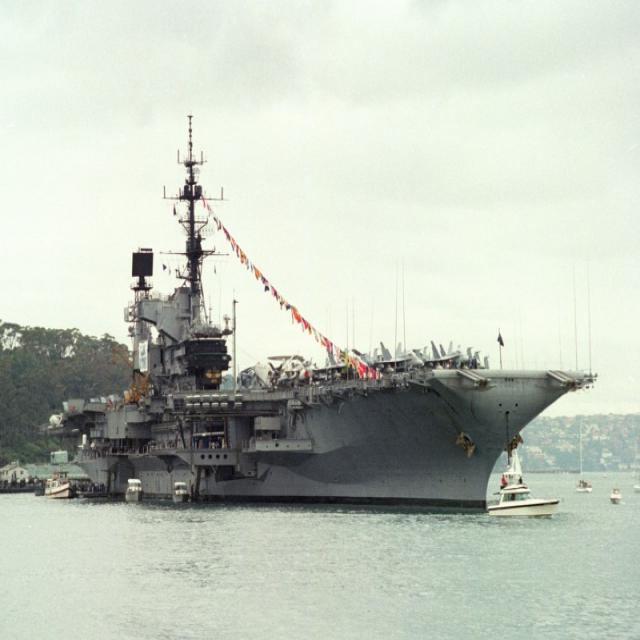Portanaves: (42, 94, 606, 526)
